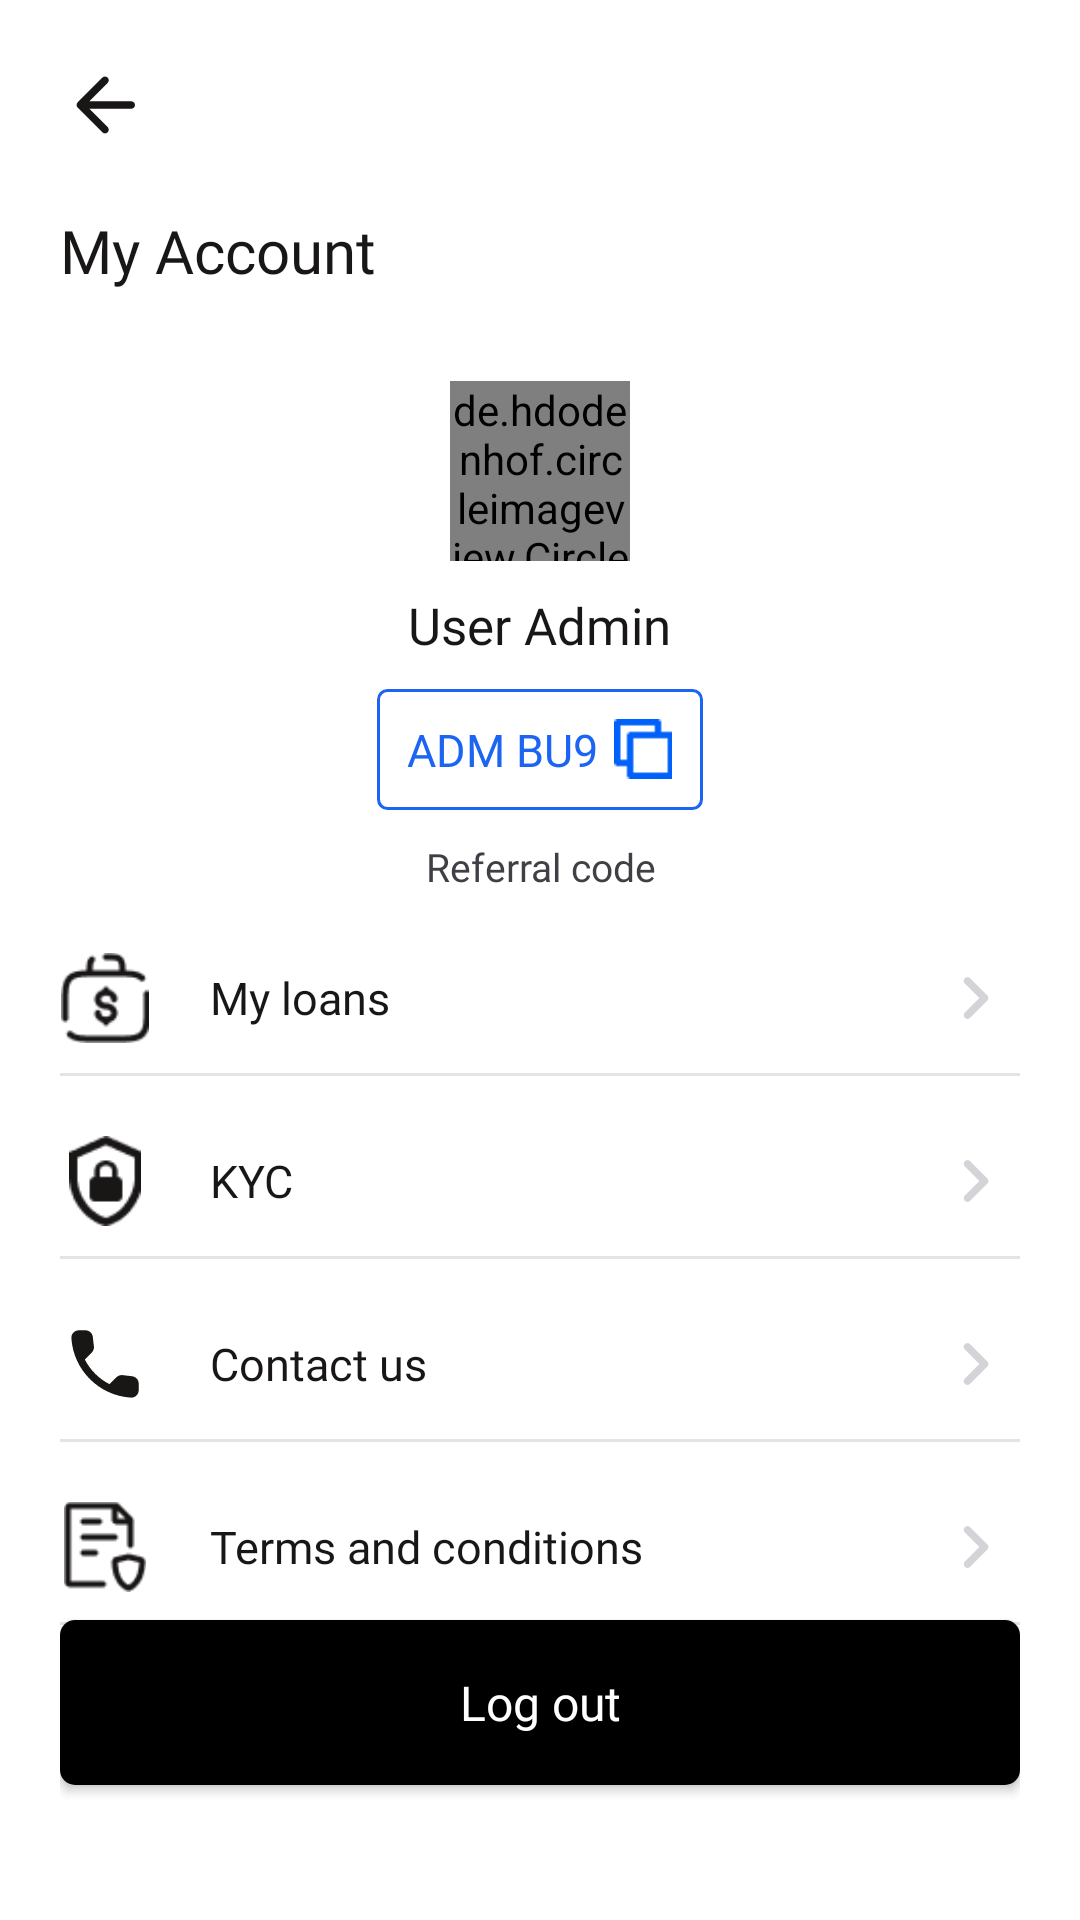

Icons on this 1080px×1920px Android screen, each with the point to tap as (x,y):
arrow left: (105,105)
phone: (105,1364)
right arrow: (976,998), (976,1181), (976,1364), (976,1547)
